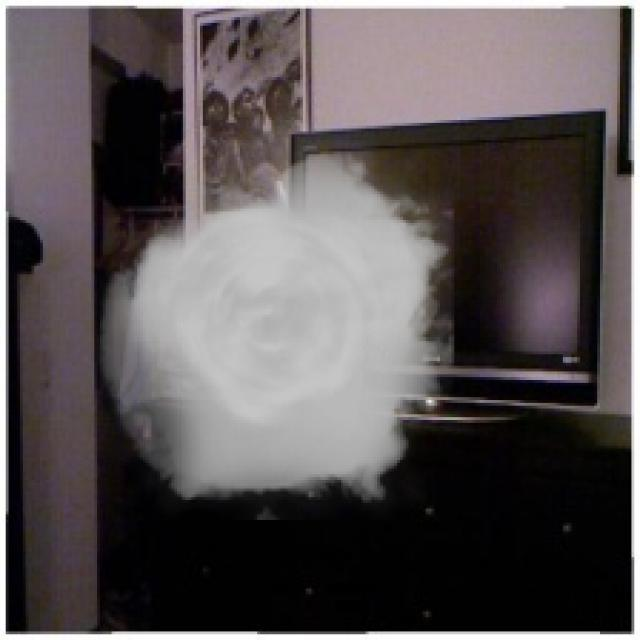smoke: (97, 140, 454, 520)
